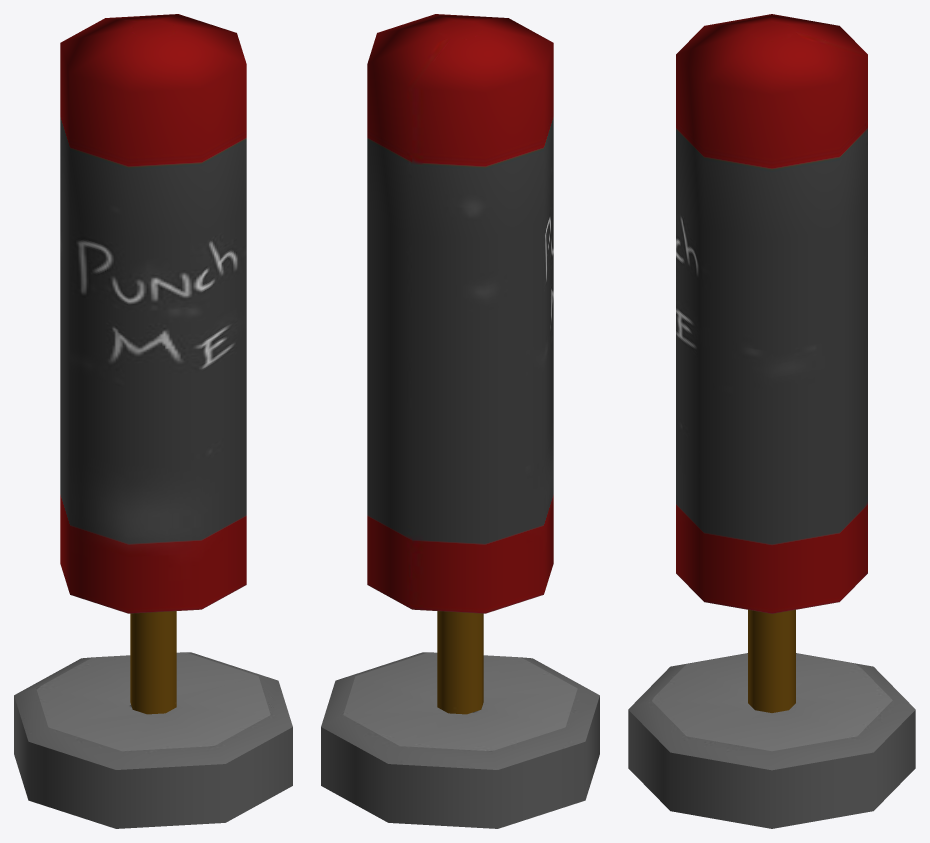
The model's file is Punching_bag_edited.fbx.
The picture shows the model from 3 angles, left to right: view 1: azimuth 30°, elevation 25°; view 2: azimuth 150°, elevation 25°; view 3: azimuth 270°, elevation 25°; orthographic projection.
Parts seen in each view (by area): view 1: Punching_Bag; view 2: Punching_Bag; view 3: Punching_Bag.
Boxes of the visible parts, <box> form: Punching_Bag: <box>14,14,292,828</box>; Punching_Bag: <box>321,14,599,828</box>; Punching_Bag: <box>628,14,915,828</box>.
Bounding box in the file's own units: 60 × 170 × 60.
